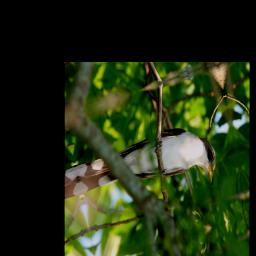Cuckoo: (74, 113, 223, 232)
